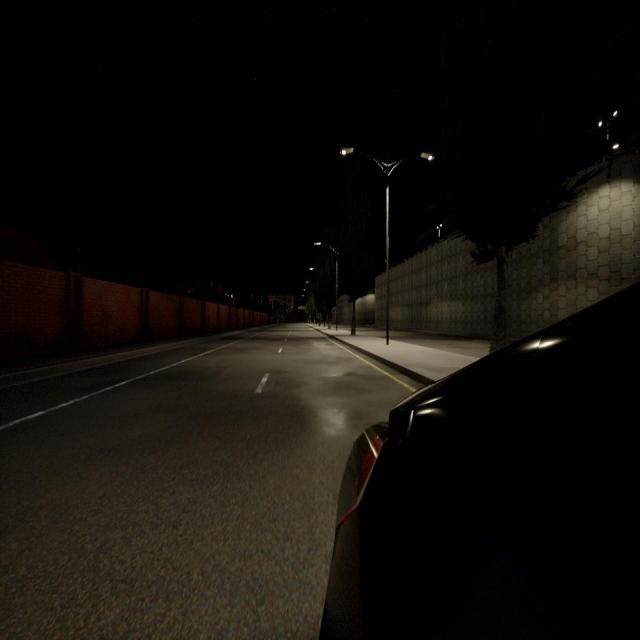Vehicle: (327, 290, 640, 638)
